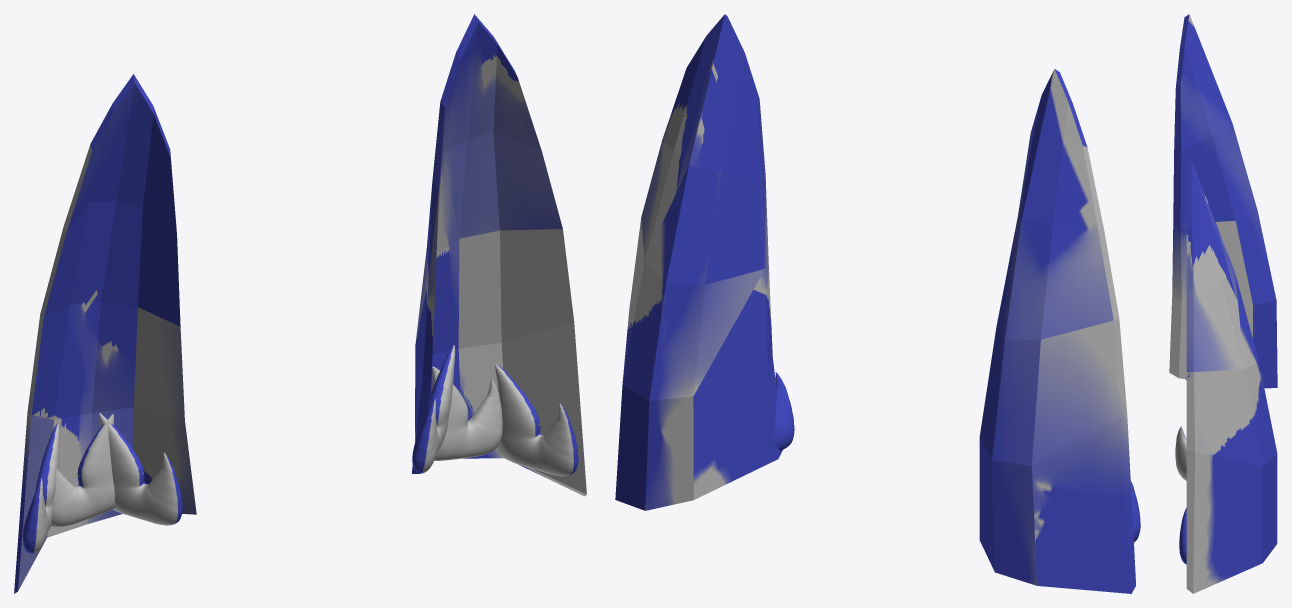
File: ear.fbx
The picture shows the model from 3 angles, left to right: view 1: azimuth 30°, elevation 25°; view 2: azimuth 150°, elevation 25°; view 3: azimuth 270°, elevation 25°; orthographic projection. The views are drawn at different scales.
Visible parts, largest first — view 1: Object_19, node_id32_7, Object_7, Object_11, Object_13, Object_5, Object_9, Object_15; view 2: node_id32_7, Object_19, Object_9; view 3: node_id32_7, Object_19, Object_9, Object_7.
Part boxes in pixels (box(x1,y1,x2,y2)): Object_19: box(14, 74, 196, 593); node_id32_7: box(411, 14, 586, 496); Object_7: box(495, 364, 578, 476); Object_11: box(99, 413, 182, 525); Object_13: box(51, 414, 114, 526); Object_5: box(432, 366, 502, 460); Object_9: box(412, 345, 455, 473); Object_15: box(23, 423, 59, 553); node_id32_7: box(615, 14, 782, 510); Object_19: box(979, 69, 1135, 593); Object_9: box(772, 372, 794, 450); node_id32_7: box(1186, 161, 1277, 593); Object_19: box(1169, 14, 1277, 388); Object_9: box(1175, 426, 1186, 480); Object_7: box(1179, 508, 1186, 564).
Size of the model in its own units: 51.69 by 47.71 by 11.42.
Materials: 8 (8 with a texture image).
